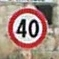limite 40: (7, 7, 48, 49)
